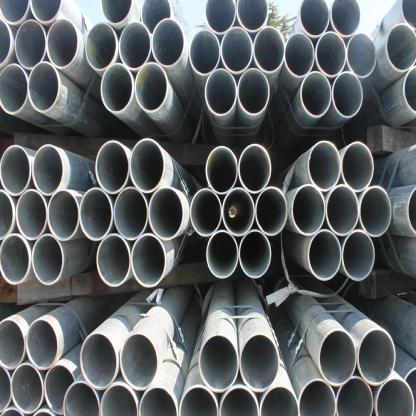pipe: (239, 334, 279, 392), (198, 335, 238, 392), (119, 332, 158, 390), (318, 330, 356, 387), (358, 328, 395, 386), (80, 334, 118, 390), (129, 139, 165, 194), (148, 186, 183, 241), (113, 186, 148, 240), (132, 233, 166, 288), (96, 234, 131, 287), (96, 140, 130, 194), (79, 187, 113, 240), (341, 229, 375, 281), (291, 184, 325, 235), (326, 185, 360, 236), (10, 363, 44, 414), (27, 61, 60, 113), (359, 185, 392, 237), (46, 18, 79, 70), (134, 62, 168, 112), (100, 63, 134, 113), (238, 144, 272, 194), (308, 141, 341, 192), (32, 144, 64, 196), (308, 229, 340, 281), (32, 233, 64, 285), (341, 142, 374, 192), (0, 233, 31, 286), (204, 68, 238, 116), (15, 189, 47, 240), (205, 146, 238, 195), (255, 186, 288, 235), (221, 187, 254, 236), (0, 144, 31, 196), (47, 190, 79, 240), (26, 320, 58, 370), (14, 19, 46, 69), (119, 22, 152, 70), (220, 26, 253, 74), (190, 188, 222, 237), (152, 18, 184, 67), (207, 230, 238, 280), (44, 365, 75, 415), (385, 22, 416, 72), (239, 230, 271, 278), (86, 23, 118, 71), (336, 375, 374, 415), (253, 26, 285, 73), (238, 68, 269, 116), (300, 72, 332, 118), (332, 71, 363, 118), (298, 378, 336, 416), (0, 63, 28, 114), (189, 29, 220, 75), (315, 31, 346, 77), (376, 379, 415, 415), (346, 33, 377, 78), (284, 32, 314, 78), (62, 380, 100, 416), (0, 319, 26, 370), (100, 382, 139, 416), (330, 0, 362, 38), (219, 386, 260, 415), (139, 386, 178, 416), (179, 386, 219, 415), (260, 386, 298, 416), (235, 0, 269, 33), (140, 0, 172, 35), (300, 0, 329, 38), (204, 0, 236, 34), (99, 0, 133, 25), (30, 0, 64, 25), (0, 0, 31, 26), (0, 190, 14, 240), (402, 66, 416, 115)
